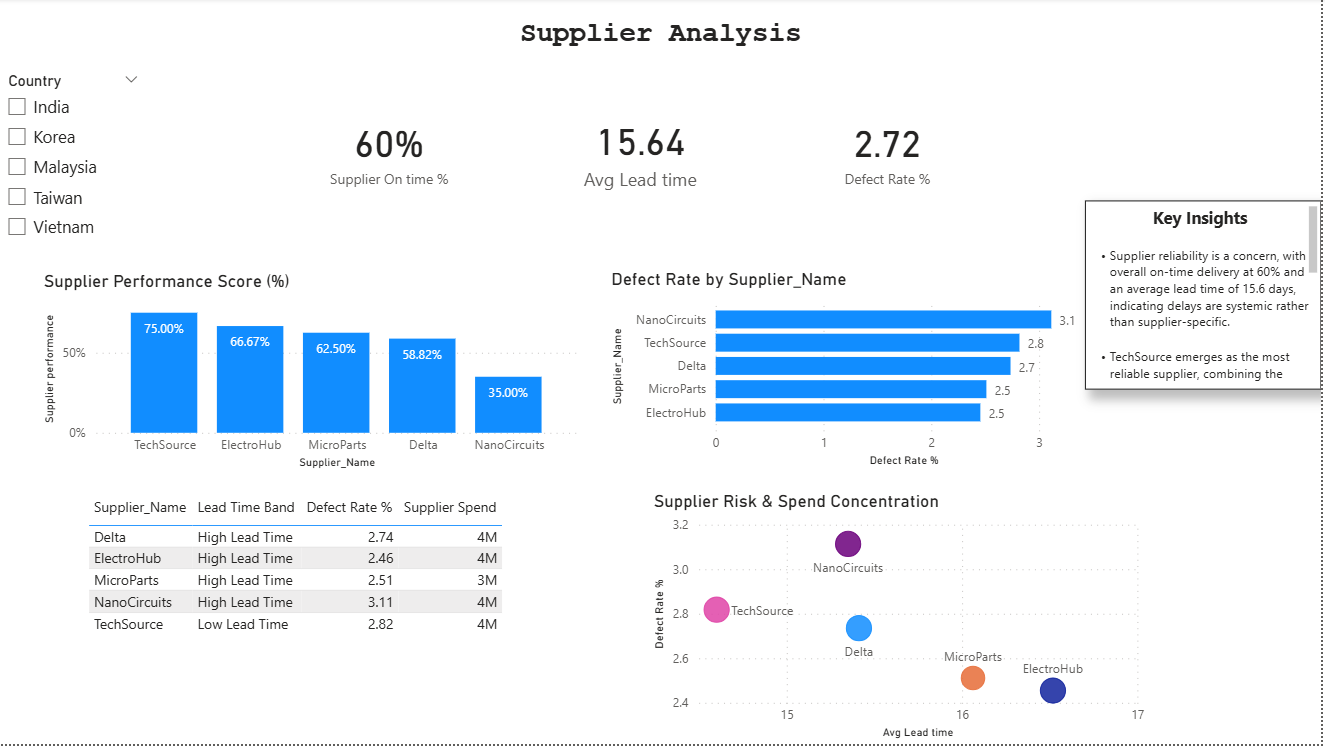

The dashboard page shown, as its layout file describes it:
{"tool":"powerbi","page":{"name":"Supplier Analysis","canvas":[1280,720],"ordinal":3},"visuals":[{"type":"card","fields":{"Values":["_Measures.Supplier On time %"]},"box":[271.4,97.7,218.3,97.7],"z":0},{"type":"card","fields":{"Values":["_Measures.Avg Lead time"]},"box":[481.2,97.7,283.4,97.7],"z":1000},{"type":"card","fields":{"Values":["_Measures.Defect Rate %"]},"box":[764.6,97.7,193,97.7],"z":2000},{"type":"barChart","title":"Defect Rate by Supplier_Name","fields":{"Category":["Supplier_Data.Supplier_Name"],"Y":["_Measures.Defect Rate %"]},"box":[589.7,260.5,478.8,196.6],"z":3000},{"type":"columnChart","title":"Supplier Performance Score (%)","fields":{"Category":["Supplier_Data.Supplier_Name"],"Y":["_Measures.Supplier performance"]},"box":[42.2,262.9,525.8,196.6],"z":4000},{"type":"slicer","fields":{"Values":["Supplier_Data.Country"]},"box":[0,66.3,150.8,194.2],"z":5000},{"type":"textbox","box":[28.9,14.5,1226.5,51.9],"z":6000},{"type":"scatterChart","title":"Supplier Risk & Spend Concentration","fields":{"X":["_Measures.Avg Lead time"],"Y":["_Measures.Defect Rate %"],"Size":["_Measures.Supplier Spend"],"Category":["Supplier_Data.Supplier_Name"],"Series":["Supplier_Data.Supplier_Name"]},"box":[630.8,475.2,483.6,244.8],"z":7000},{"type":"tableEx","fields":{"Values":["Supplier_Data.Supplier_Name","_Measures.Lead Time Band","_Measures.Defect Rate %","_Measures.Supplier Spend"]},"box":[84.4,475.2,530.7,244.8],"z":8000},{"type":"textbox","box":[1051.7,195.4,227.9,182.1],"z":9000}]}

Visuals, with their boxes in screenshot pixels (x1, y1, x2, y2), scaled from the page's 1280x720 canvas onto the 1325x748 screenshot:
card - _Measures.Supplier On time %: x1=281, y1=101, x2=507, y2=203
card - _Measures.Avg Lead time: x1=498, y1=101, x2=791, y2=203
card - _Measures.Defect Rate %: x1=791, y1=101, x2=991, y2=203
"Defect Rate by Supplier_Name" barChart: x1=610, y1=271, x2=1106, y2=475
"Supplier Performance Score (%)" columnChart: x1=44, y1=273, x2=588, y2=477
slicer - Supplier_Data.Country: x1=0, y1=69, x2=156, y2=271
textbox: x1=30, y1=15, x2=1300, y2=69
"Supplier Risk & Spend Concentration" scatterChart: x1=653, y1=494, x2=1154, y2=747
tableEx - Supplier_Data.Supplier_Name x _Measures.Lead Time Band: x1=87, y1=494, x2=637, y2=747
textbox: x1=1089, y1=203, x2=1324, y2=392
